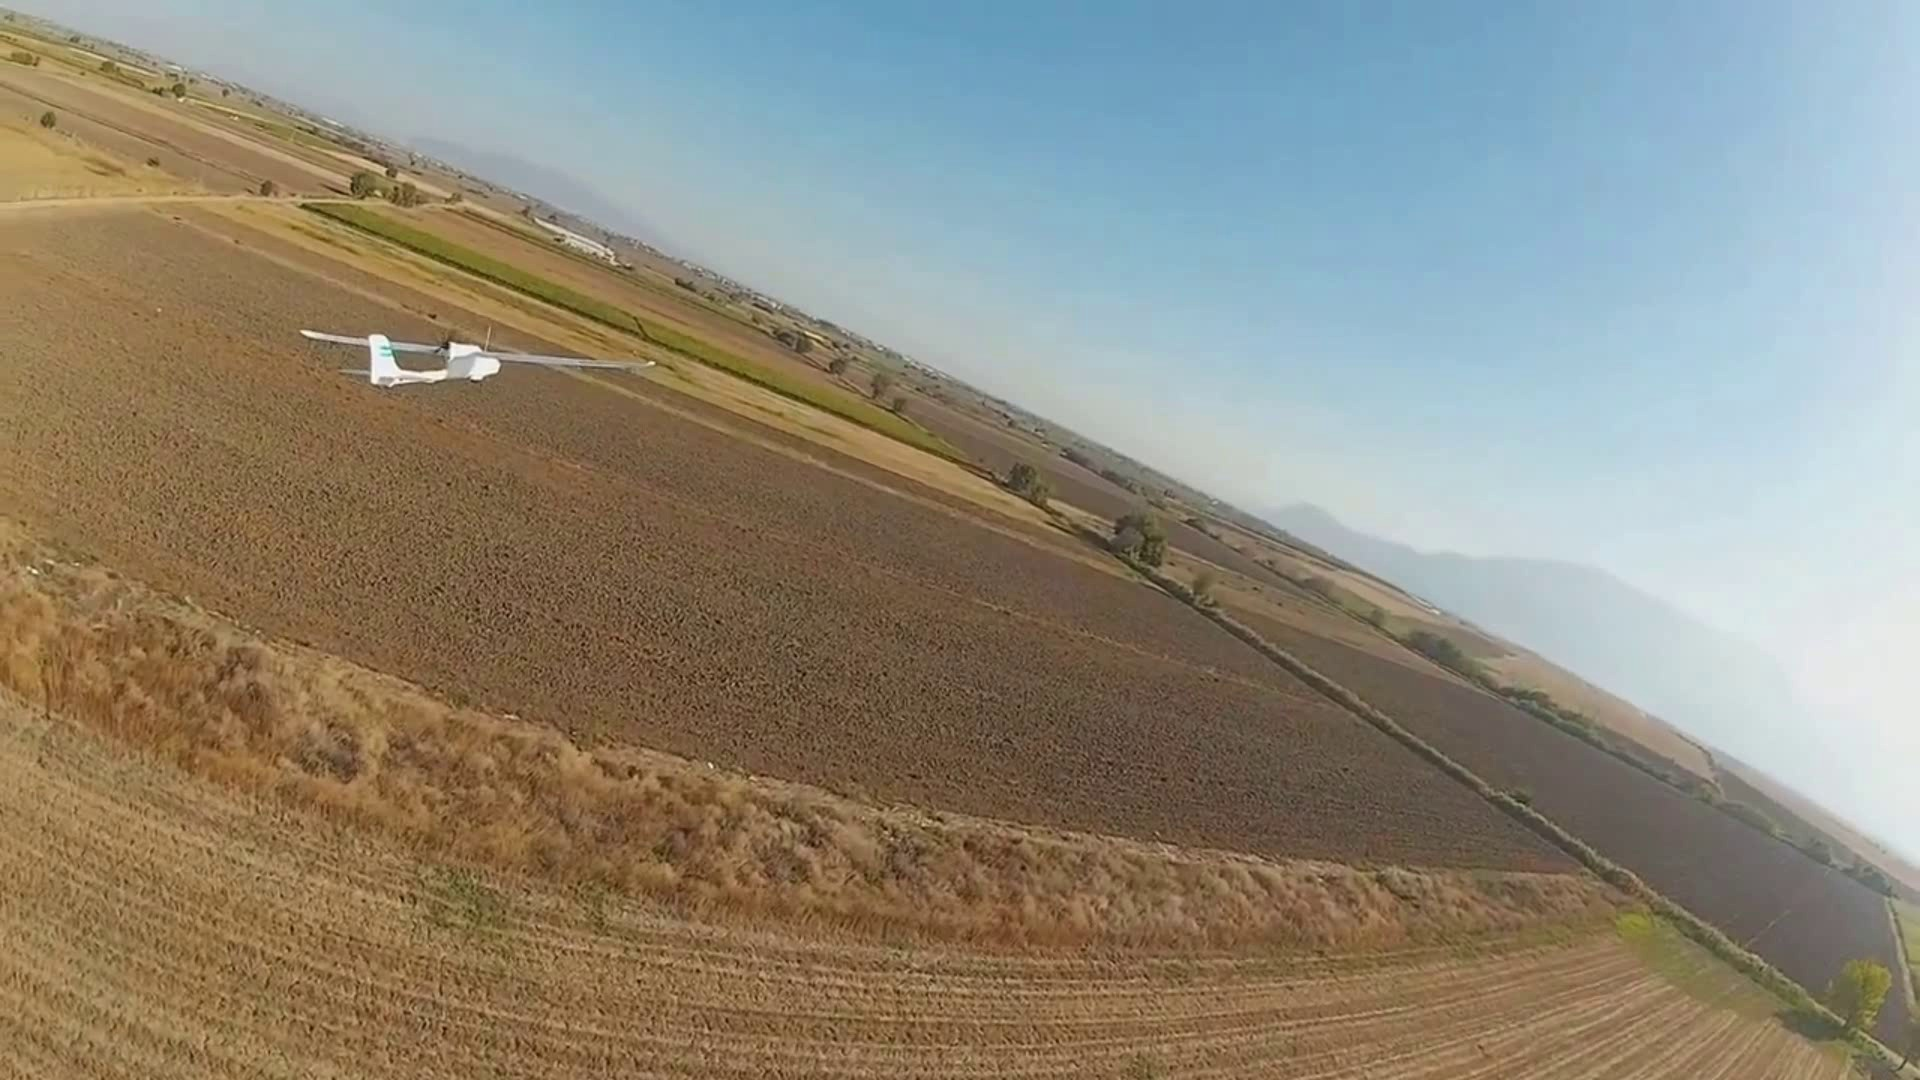airplane: (297, 326, 500, 387)
